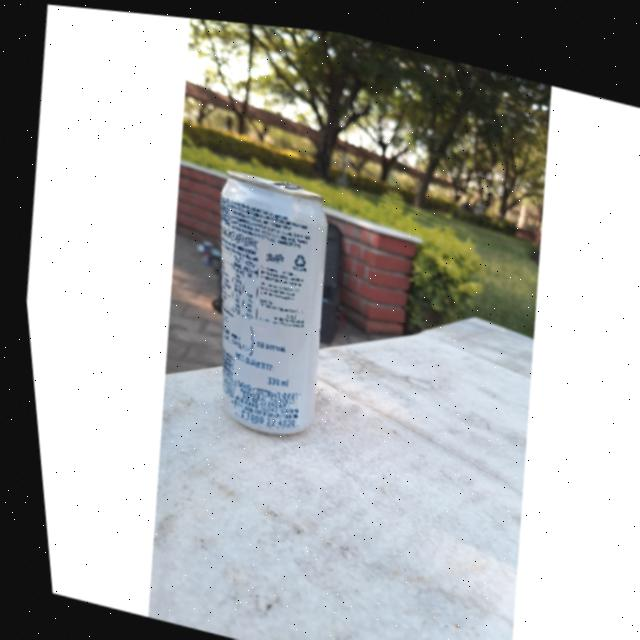Pepsi Retro: (178, 155, 350, 439)
